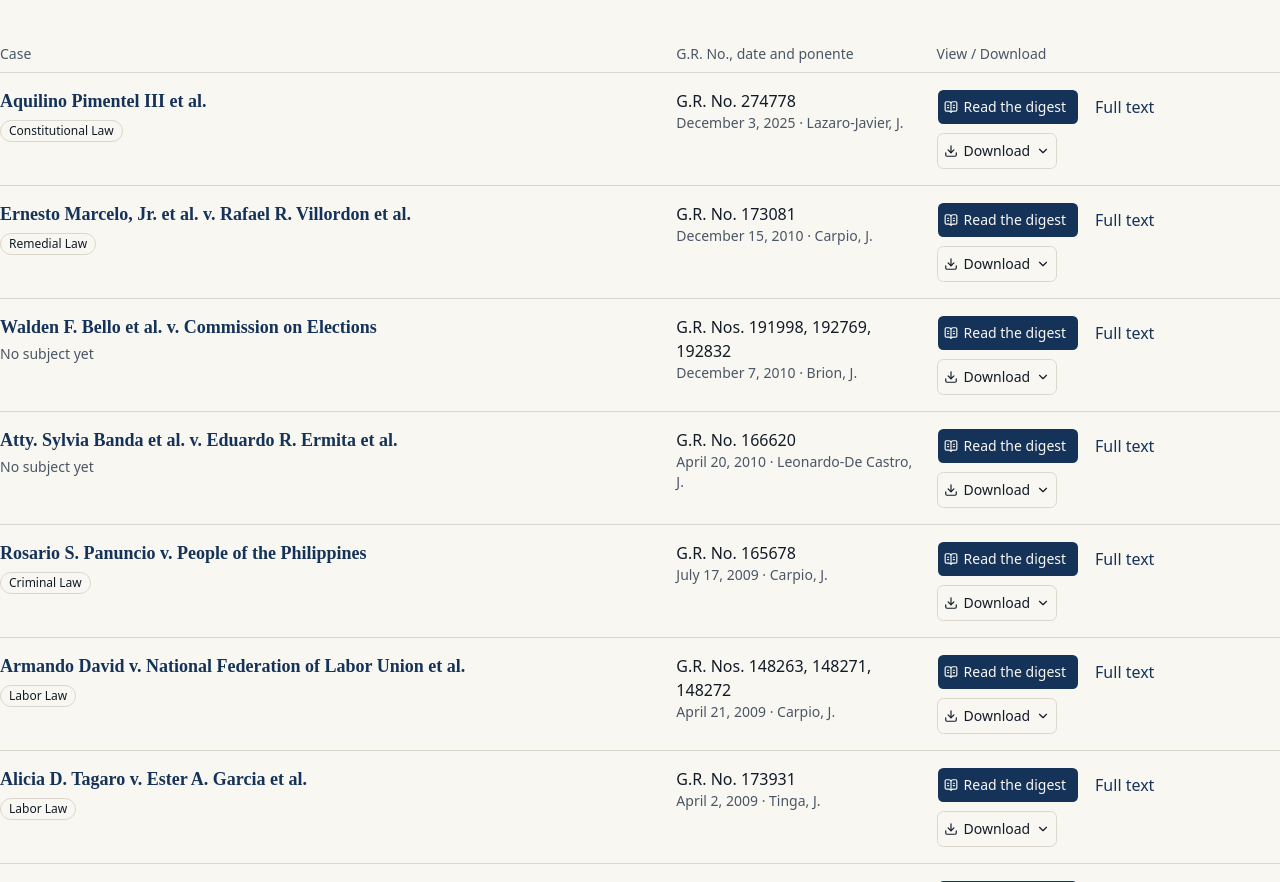
it: the table of the drawing (Case | G.R. No., date and ponente | View / Download) › does not offer a file that does not exist yet: it points to writing the digest first
Click the button with aria-label "Download: Aquilino Pimentel III et al." at (997, 151), box left=937, top=133, right=1057, bottom=169
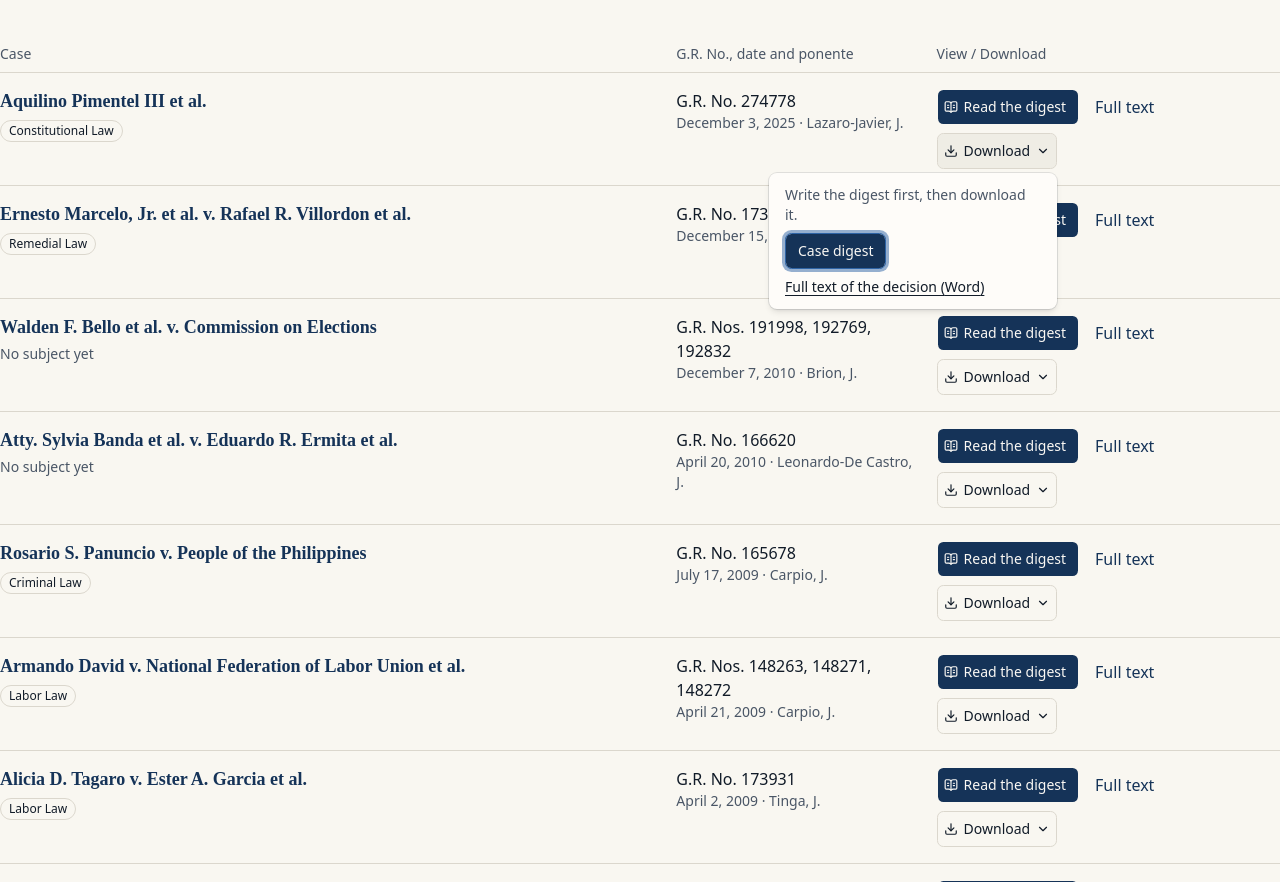
Check: the text "Write the digest first, then download it." is shown, box left=785, top=185, right=1041, bottom=225
